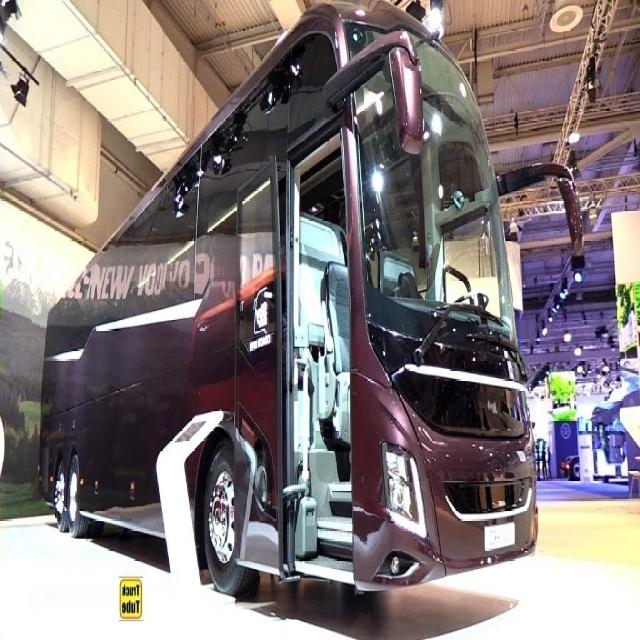bus: (39, 4, 585, 596)
